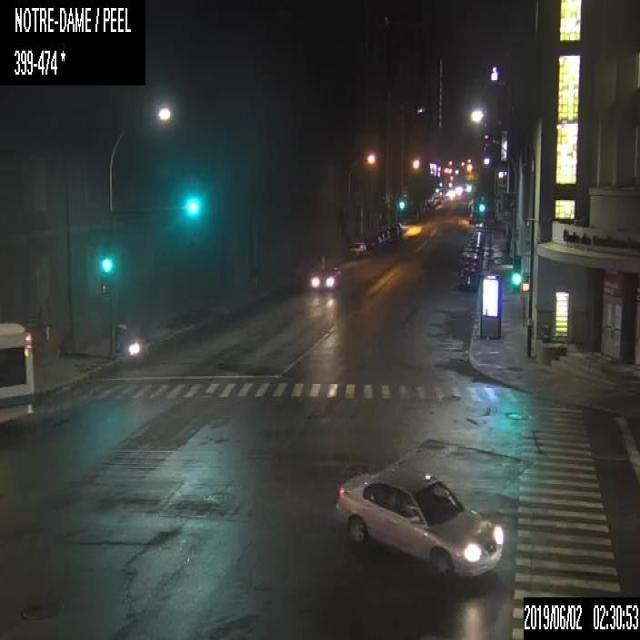bus: (0, 319, 35, 424)
vehicle: (332, 467, 504, 582), (309, 264, 343, 291), (459, 266, 479, 291), (458, 250, 479, 266), (348, 241, 366, 257), (462, 246, 480, 254), (462, 260, 480, 268), (366, 235, 376, 248)
